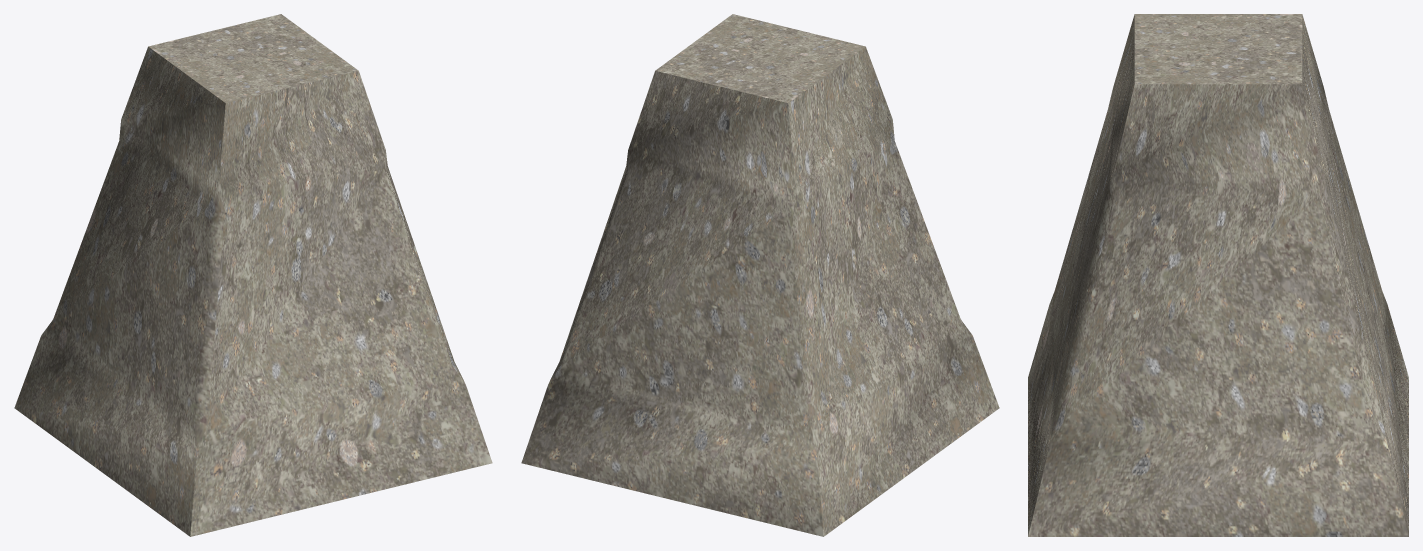
3 views of the same model, side by side, from view 1: azimuth 30°, elevation 25°; view 2: azimuth 150°, elevation 25°; view 3: azimuth 270°, elevation 25° (orthographic). The views are drawn at different scales.
Visible parts, largest first — view 1: obelsik; view 2: obelsik; view 3: obelsik.
Part boxes in pixels (x1,y1,x2,y2): obelsik: (14, 14, 492, 536); obelsik: (521, 14, 999, 536); obelsik: (1028, 14, 1408, 536).
Size of the model in its own units: 8288 by 9878 by 8357.
Materials: 1 (1 with a texture image).
